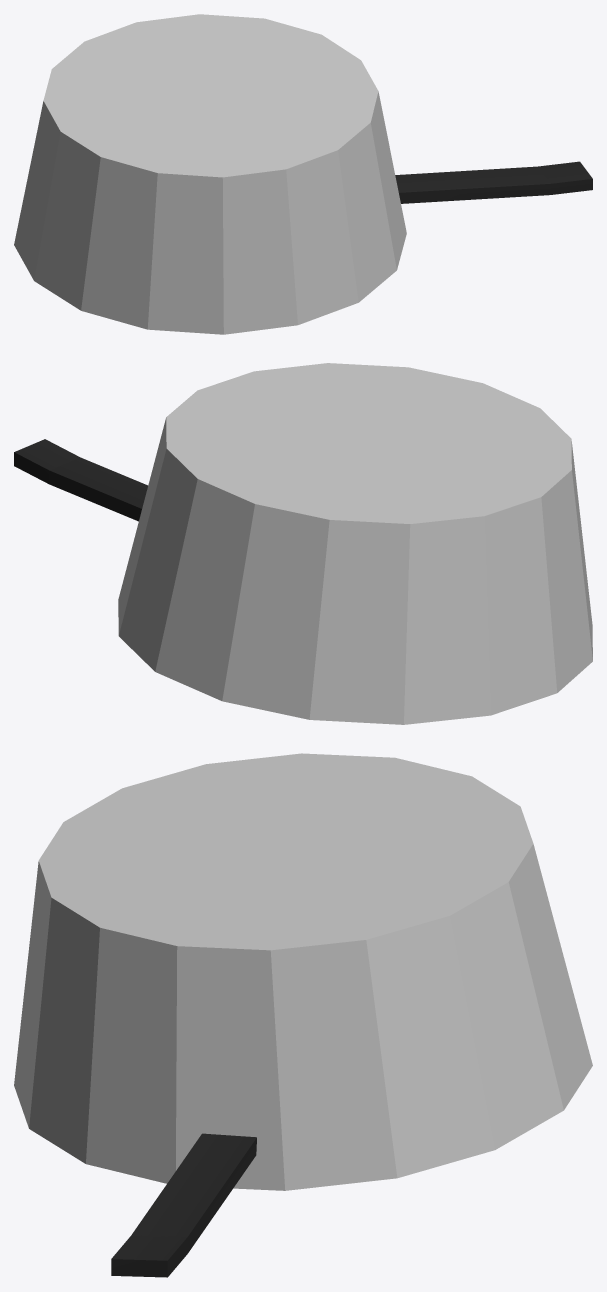
The model's file is SAUCEPAN HAT.fbx.
The picture shows the model from 3 angles, top to bottom: view 1: azimuth 30°, elevation 25°; view 2: azimuth 150°, elevation 25°; view 3: azimuth 270°, elevation 25°; orthographic projection. The views are drawn at different scales.
Parts seen in each view (by area): view 1: SAUCEPAN_HAT; view 2: SAUCEPAN_HAT; view 3: SAUCEPAN_HAT.
Boxes of the visible parts, x1,y1,x2,y2 form: SAUCEPAN_HAT: (14, 14, 592, 334); SAUCEPAN_HAT: (14, 363, 592, 724); SAUCEPAN_HAT: (14, 753, 592, 1277).
Bounding box in the file's own units: 39.75 × 13.28 × 27.34.
